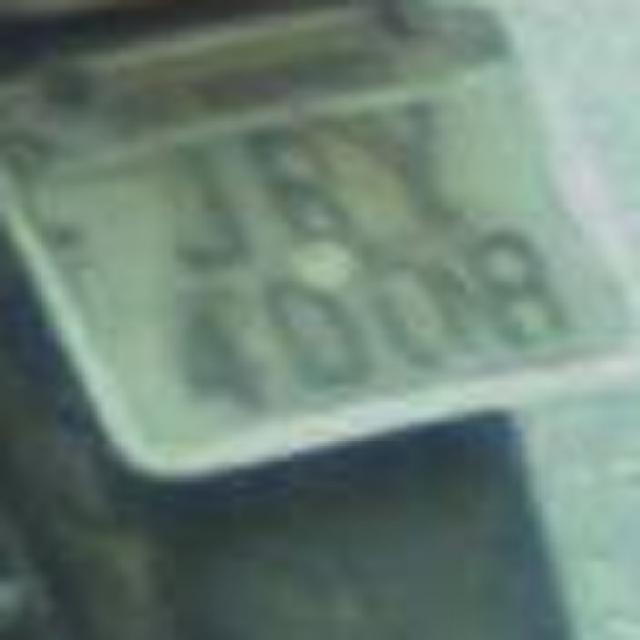0: (249, 248, 396, 408), (352, 231, 492, 384)
4: (148, 268, 288, 428)
8: (456, 200, 589, 368)
J: (131, 132, 264, 280)
R: (235, 116, 380, 269)
